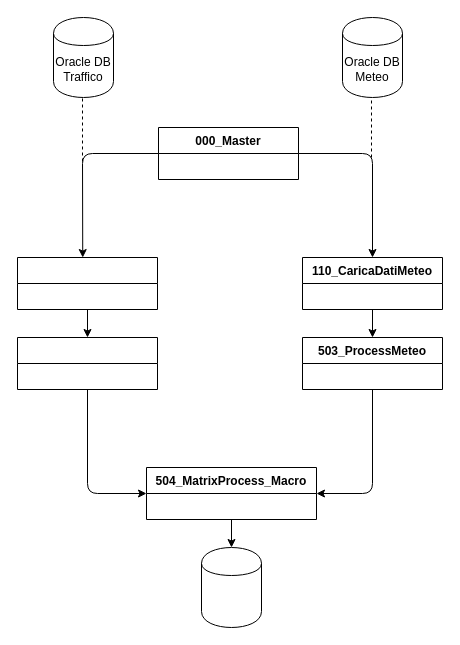
Image size: 460x645. Some labels were removed from this diagram. Here are the shapes that lost their labels. From the top down, the centre of each, then its label:
At (87,283): "100_CaricaDati".
At (87,363): "502_ProcessTratte".
At (231,587): "Stations_ Past_ 2018".
